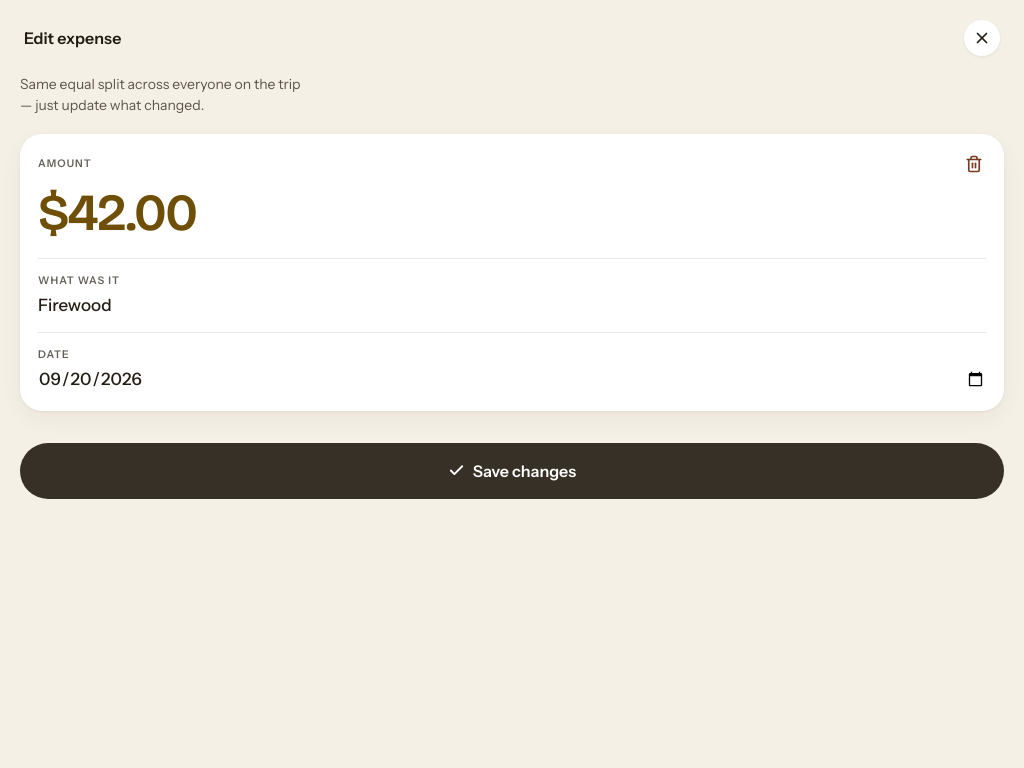
Test: Delete flow (criteria 2, 13) › failure code not_allowed shows the one neutral line, re-enables the buttons and never navigates
What coordinates should you click on to do the following:
click the button named "Delete expense"
I would click on:
 (974, 164)
Its box is [956,146,992,182].
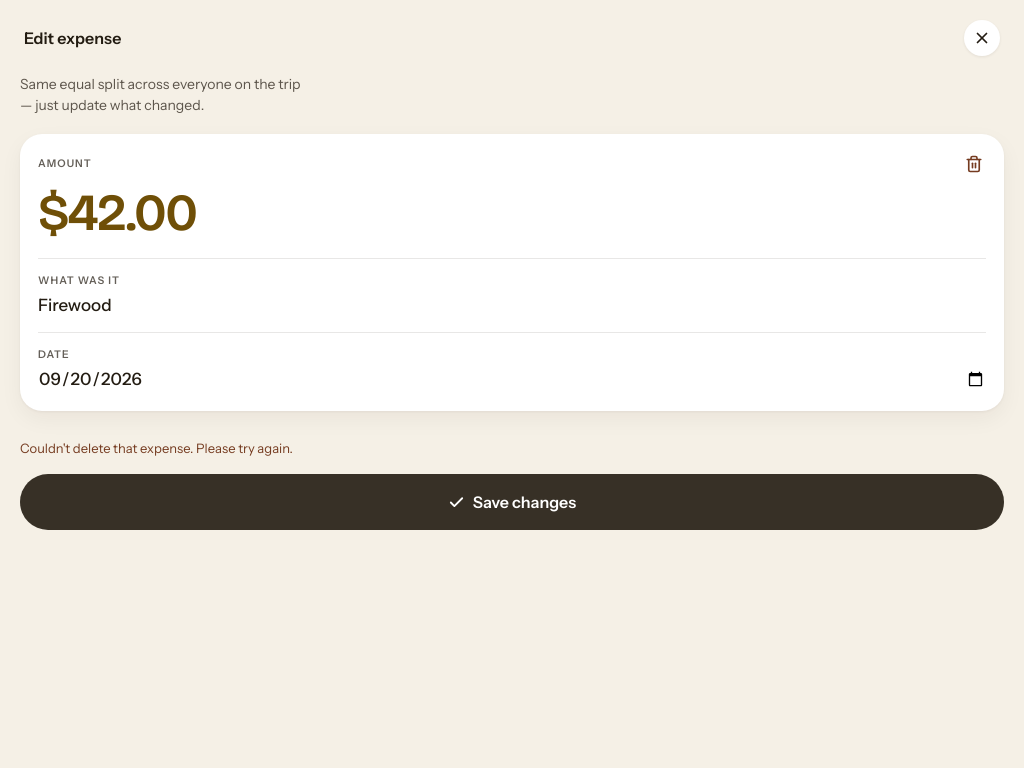
Expected: the button "Save changes" is enabled, [20,474,1004,530]
Now the text "Couldn't delete that expense. Please try again." is shown, box [20,440,293,456]
